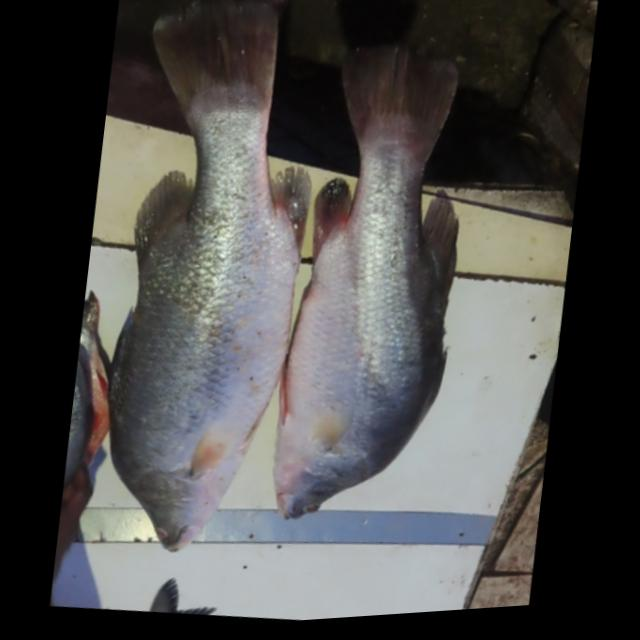Seabass: (82, 0, 334, 567), (258, 28, 480, 536)
